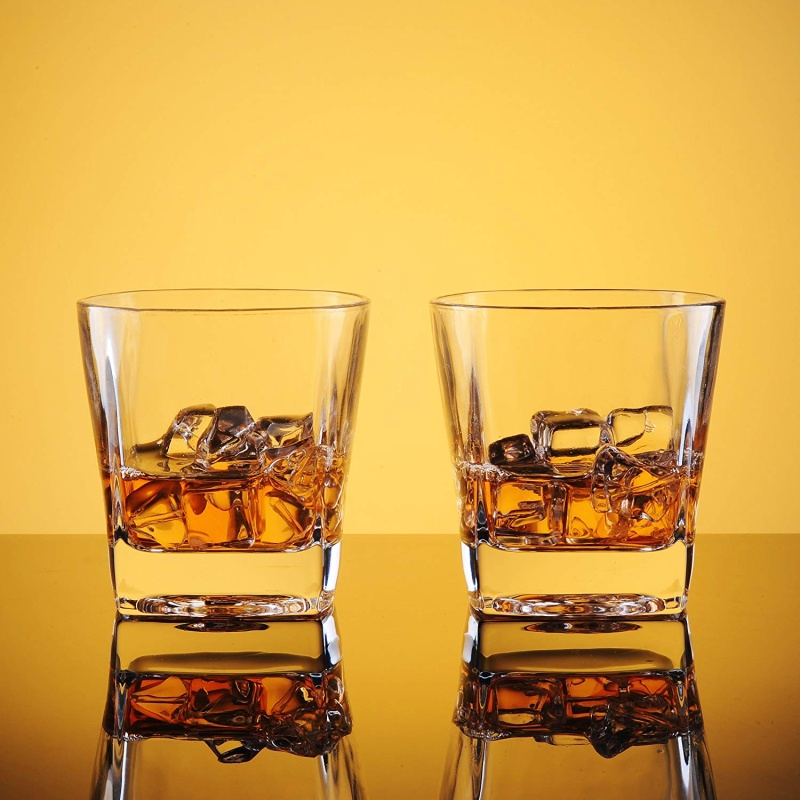whiskey: (80, 288, 371, 614), (423, 289, 709, 619)
